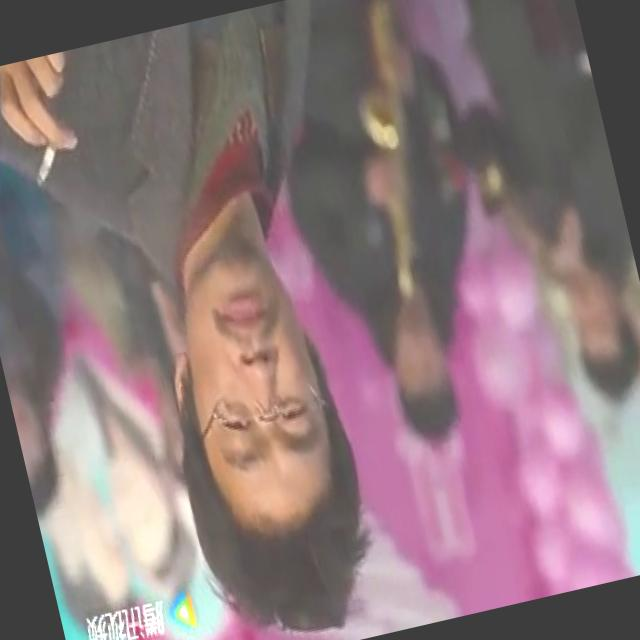smoke: (27, 145, 60, 190)
